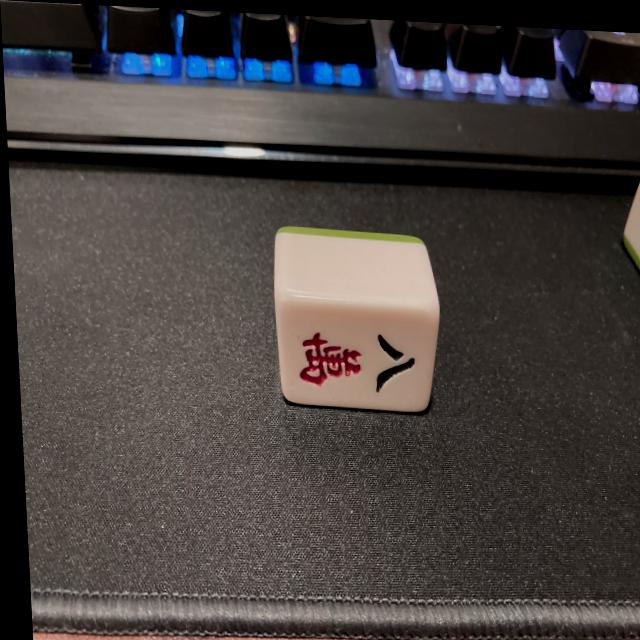m8: (280, 307, 431, 409)
